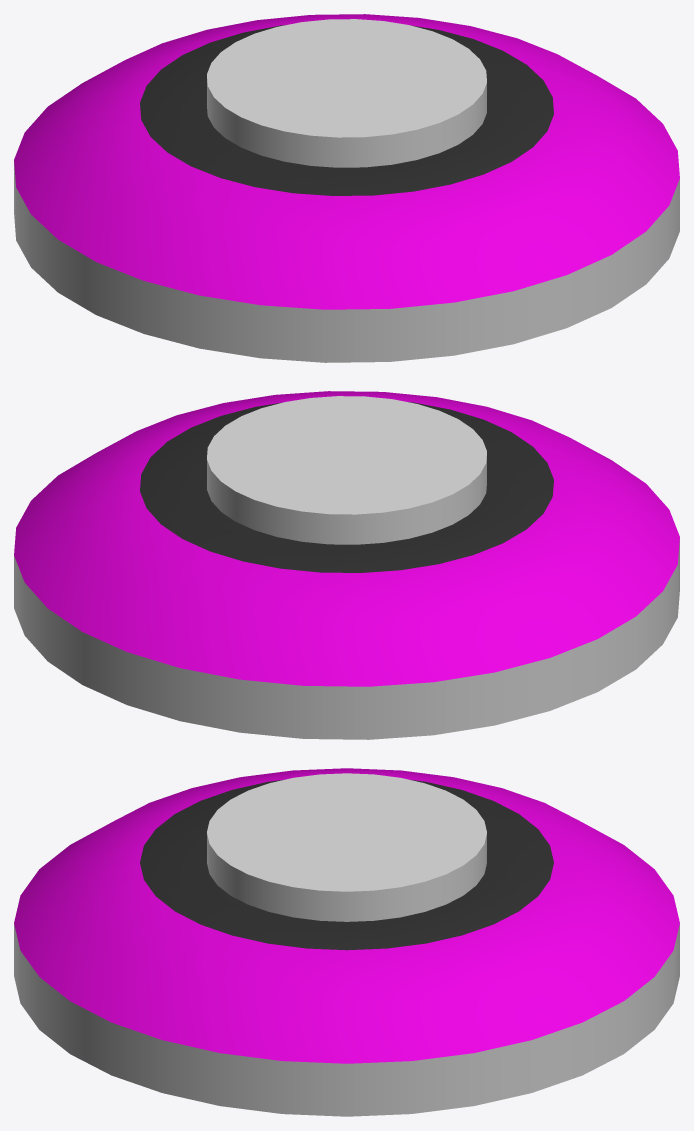
The model's file is TempoButton.fbx.
The picture shows the model from 3 angles, top to bottom: view 1: azimuth 30°, elevation 25°; view 2: azimuth 150°, elevation 25°; view 3: azimuth 270°, elevation 25°; orthographic projection.
Parts seen in each view (by area): view 1: TempoButton; view 2: TempoButton; view 3: TempoButton.
Part boxes in pixels (x1=…): TempoButton: x1=14, y1=14, x2=679, y2=362; TempoButton: x1=14, y1=391, x2=679, y2=739; TempoButton: x1=14, y1=768, x2=679, y2=1116.
Size of the model in its own units: 200 by 47.55 by 200.
